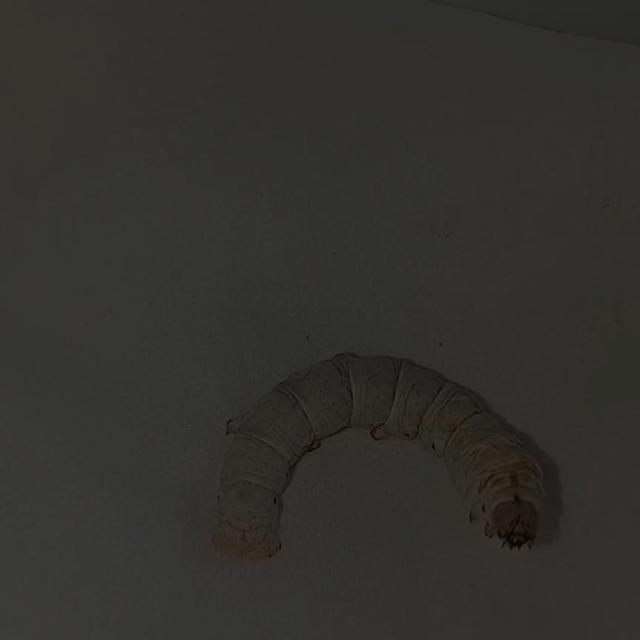Healthy: (184, 332, 578, 589)
